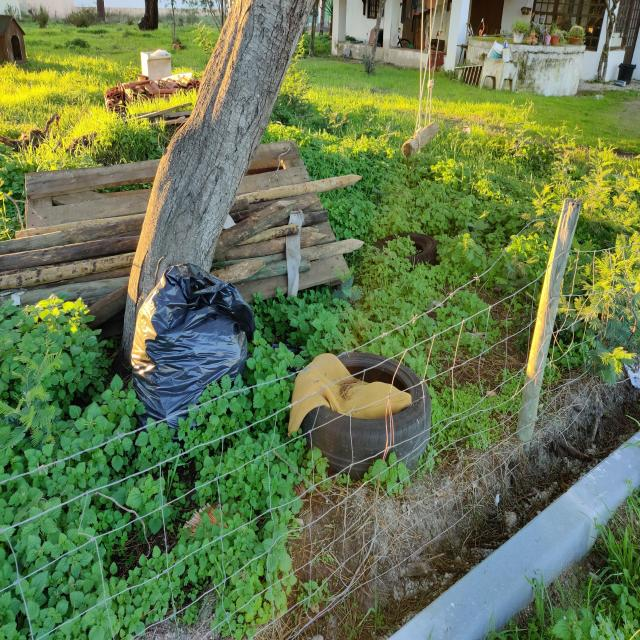litter: (120, 252, 261, 447), (277, 335, 445, 481)
